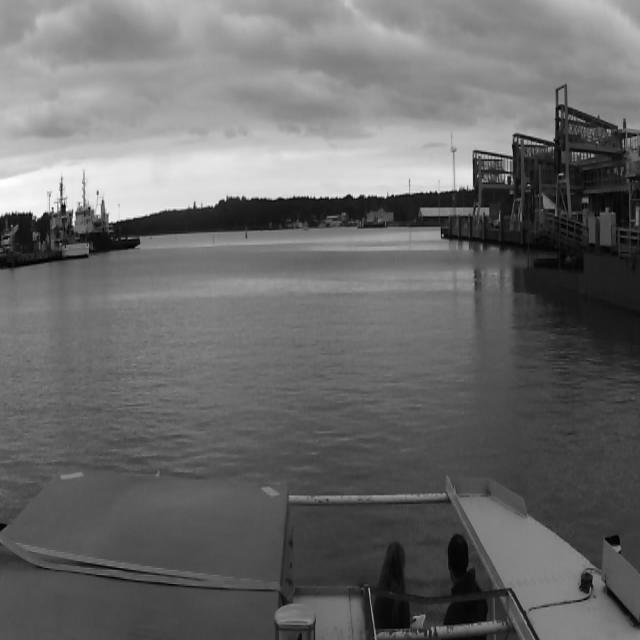buoy: (212, 233, 214, 247), (245, 227, 247, 239)
ship: (52, 171, 142, 256), (72, 198, 149, 258)
